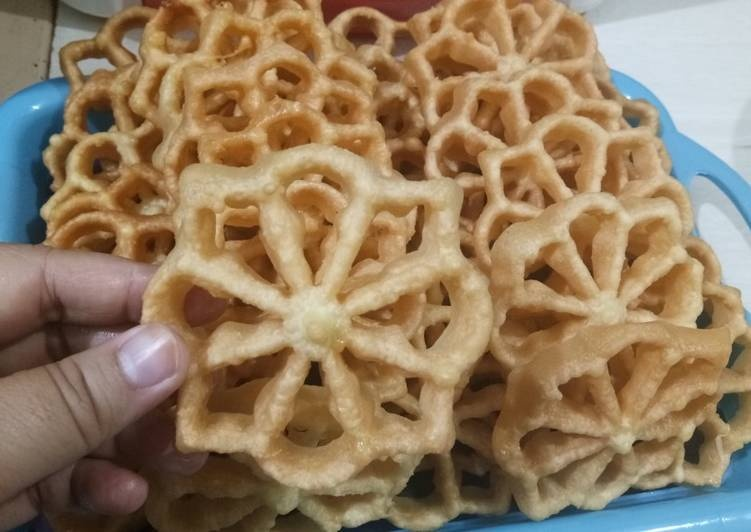kembang_goyang: (96, 150, 502, 498)
